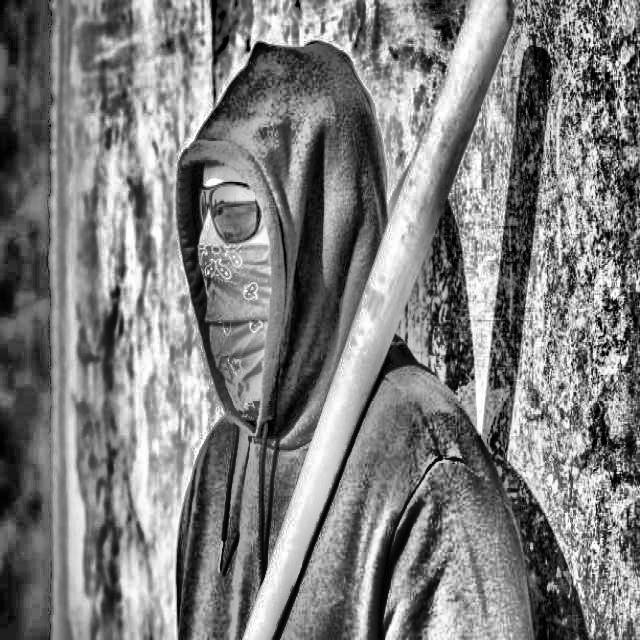tongkat pemukul: (214, 0, 532, 639)
